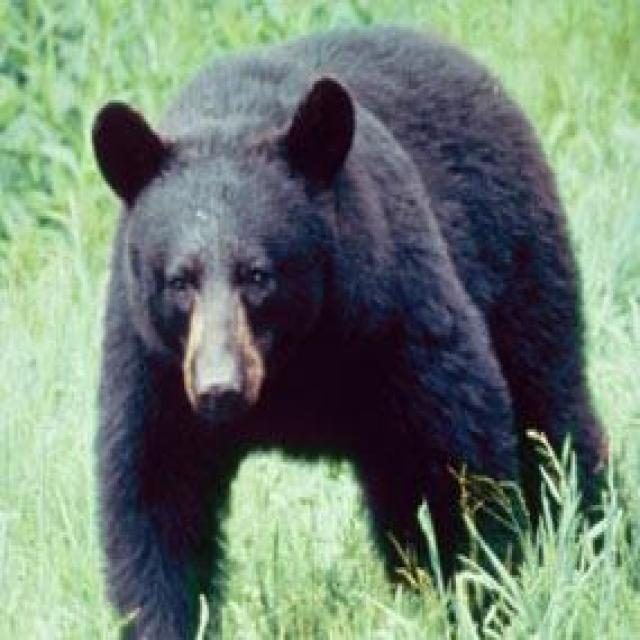Bear: (90, 27, 611, 640)
